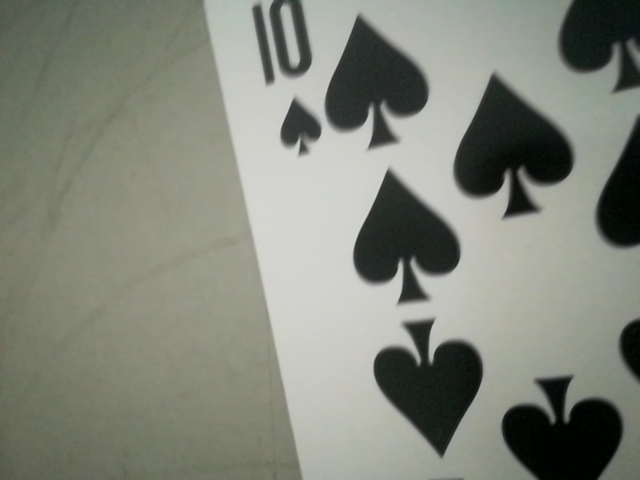ht 10: (240, 0, 338, 166)
